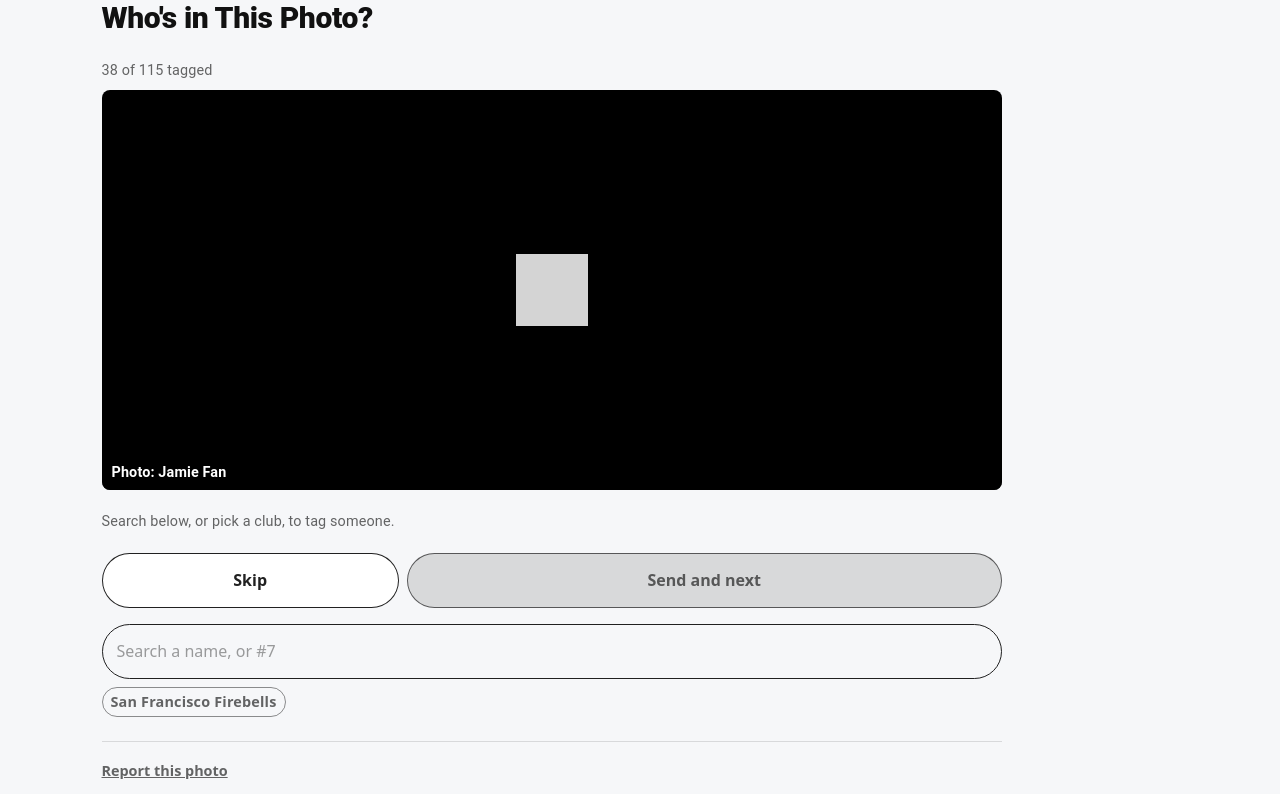
it: PhotoTagPage › reports a photo with a reason from the closed list and moves on
The width and height of the screenshot is (1280, 794).
Expected: the text "38 of 115 tagged" is shown, [102,62,212,79]
Click the button "Report this photo": coordinates (165, 770) [102,760,228,781]
(page scrolled)
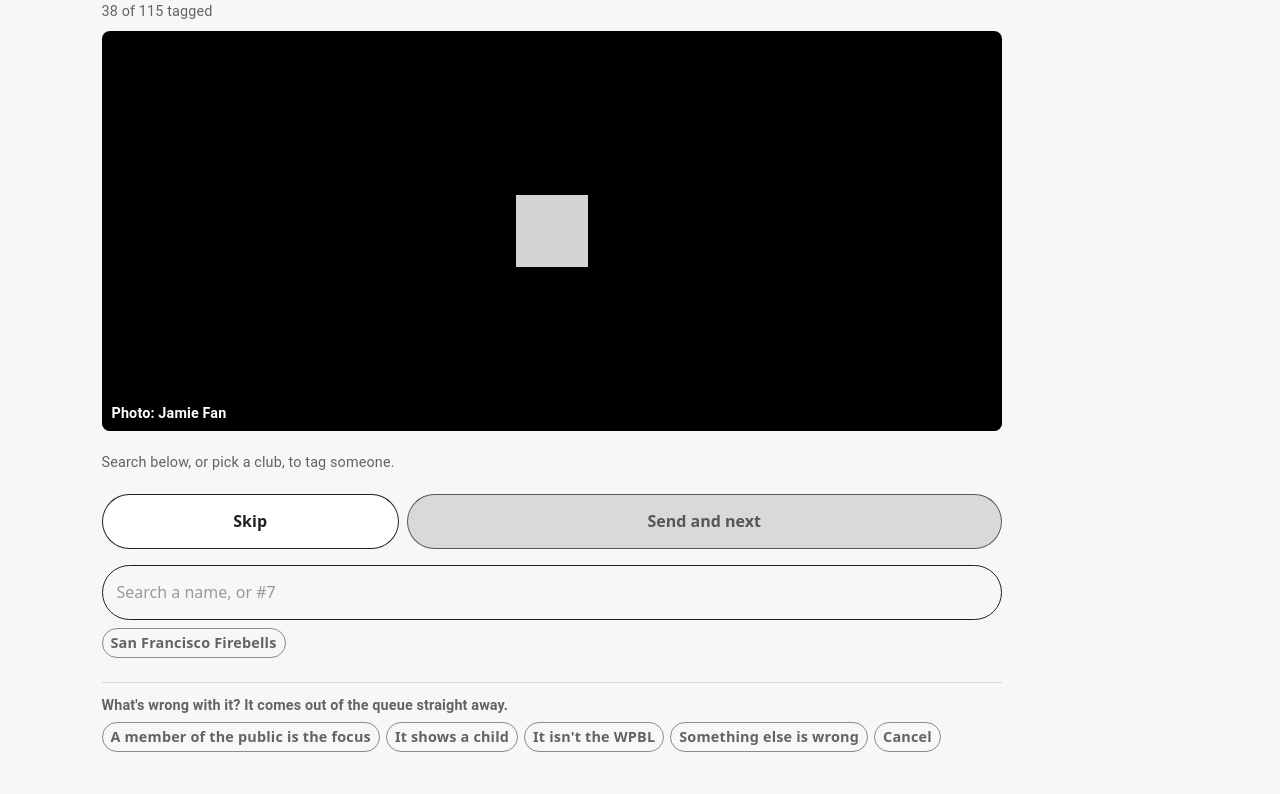
Click the button "It shows a child": coordinates (452, 737) [386,722,518,752]
(page scrolled)
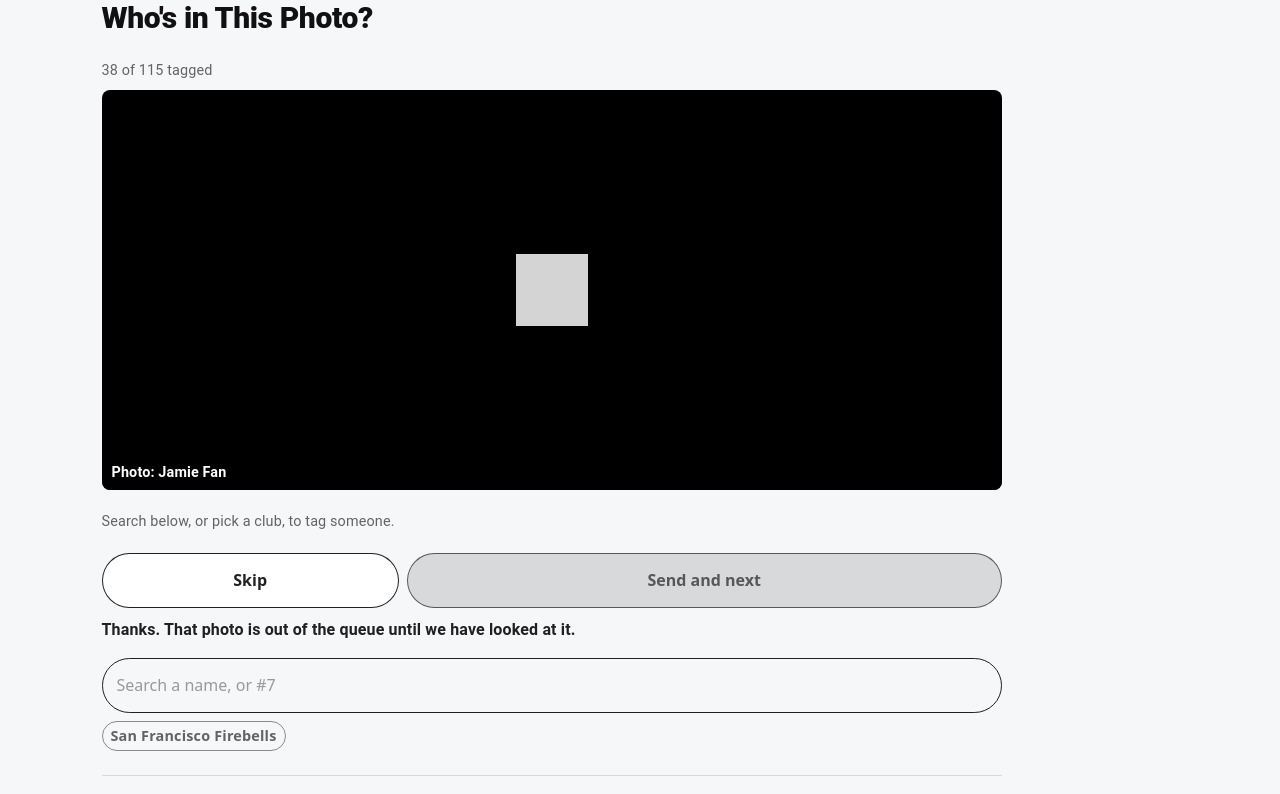
Expected: the text "Thanks. That photo is out of the queue until we have looked at it." is shown, [102,620,576,639]
